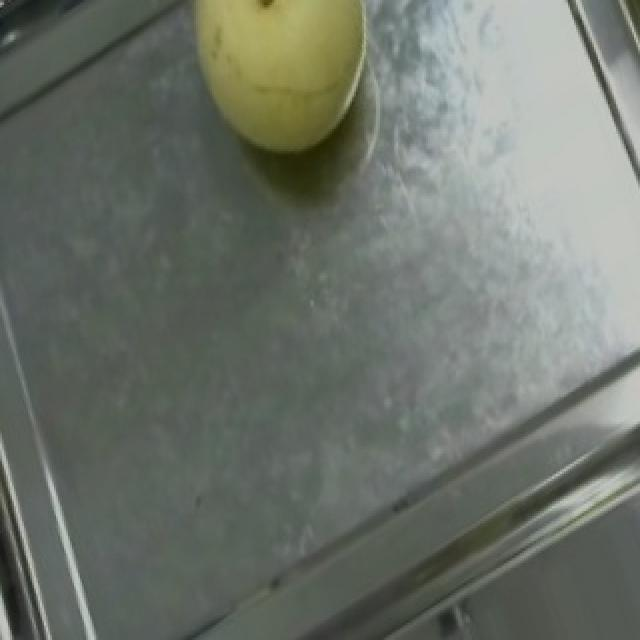Fruit: (152, 0, 408, 189)
